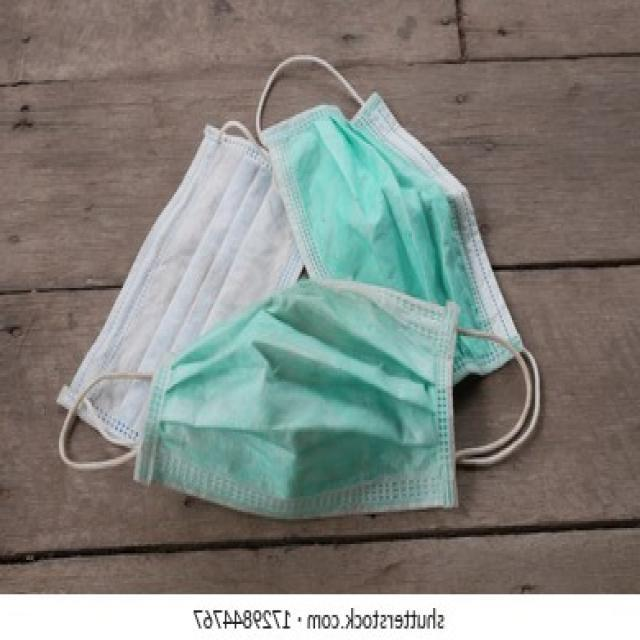face mask: (42, 36, 542, 452), (51, 286, 524, 512)
